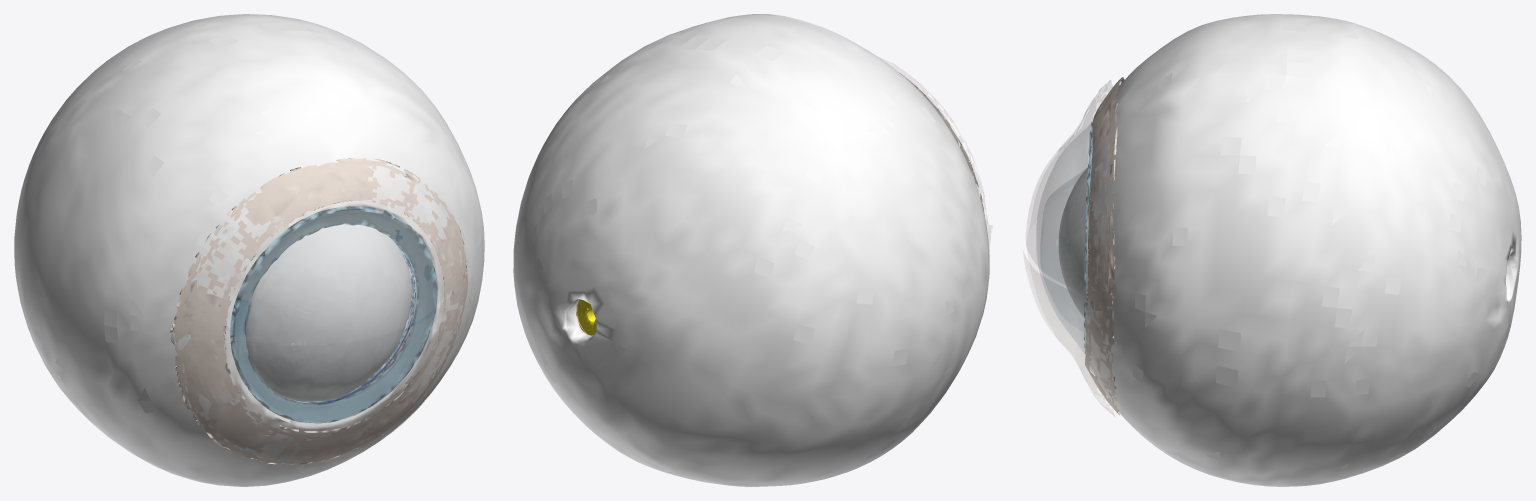
File: 3d-vh-m-eye-r-80.glb
3 views of the same model, side by side, from view 1: azimuth 30°, elevation 25°; view 2: azimuth 150°, elevation 25°; view 3: azimuth 270°, elevation 25° (orthographic).
Visible parts, largest first — view 1: VH_M_sclera_R, VH_M_cornea_R, VH_M_palpebral_conjunctiva_of_upper_eyelid_R, VH_M_palpebral_conjunctiva_of_lower_eyelid_R, VH_M_bulbar_conjunctiva_R, VH_M_aqueous_humor_R, VH_M_corneo_scleral_junction_R, VH_M_trabecular_meshwork_R; view 2: VH_M_sclera_R, VH_M_palpebral_conjunctiva_of_upper_eyelid_R; view 3: VH_M_sclera_R, VH_M_palpebral_conjunctiva_of_upper_eyelid_R, VH_M_cornea_R, VH_M_bulbar_conjunctiva_R, VH_M_palpebral_conjunctiva_of_lower_eyelid_R, VH_M_aqueous_humor_R, VH_M_corneo_scleral_junction_R.
Part boxes in pixels (bbox=[...]): VH_M_sclera_R: bbox=[14, 14, 484, 486]; VH_M_cornea_R: bbox=[231, 208, 437, 422]; VH_M_palpebral_conjunctiva_of_upper_eyelid_R: bbox=[177, 162, 467, 344]; VH_M_palpebral_conjunctiva_of_lower_eyelid_R: bbox=[175, 276, 473, 467]; VH_M_bulbar_conjunctiva_R: bbox=[170, 158, 468, 464]; VH_M_aqueous_humor_R: bbox=[245, 224, 411, 401]; VH_M_corneo_scleral_junction_R: bbox=[230, 206, 437, 423]; VH_M_trabecular_meshwork_R: bbox=[287, 241, 416, 403]; VH_M_sclera_R: bbox=[513, 14, 989, 486]; VH_M_palpebral_conjunctiva_of_upper_eyelid_R: bbox=[879, 57, 987, 222]; VH_M_sclera_R: bbox=[1085, 14, 1521, 486]; VH_M_palpebral_conjunctiva_of_upper_eyelid_R: bbox=[1026, 80, 1112, 309]; VH_M_cornea_R: bbox=[1037, 124, 1091, 353]; VH_M_bulbar_conjunctiva_R: bbox=[1084, 77, 1124, 414]; VH_M_palpebral_conjunctiva_of_lower_eyelid_R: bbox=[1023, 220, 1114, 416]; VH_M_aqueous_humor_R: bbox=[1058, 168, 1088, 317]; VH_M_corneo_scleral_junction_R: bbox=[1084, 121, 1092, 353].
Size of the model in its own units: 0.0245 by 0.0244 by 0.0257.
